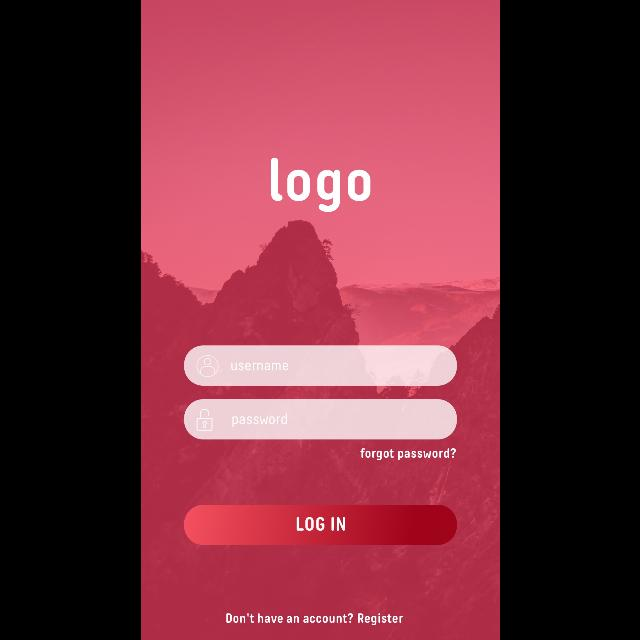backgroundimage: (140, 1, 500, 640)
icon: (196, 355, 218, 377), (196, 409, 212, 431)
input: (184, 346, 456, 386), (184, 399, 456, 439)
text: (270, 158, 370, 212), (225, 612, 403, 626), (360, 448, 456, 460), (232, 413, 286, 427), (230, 363, 288, 371)
textbutton: (184, 505, 456, 545)
